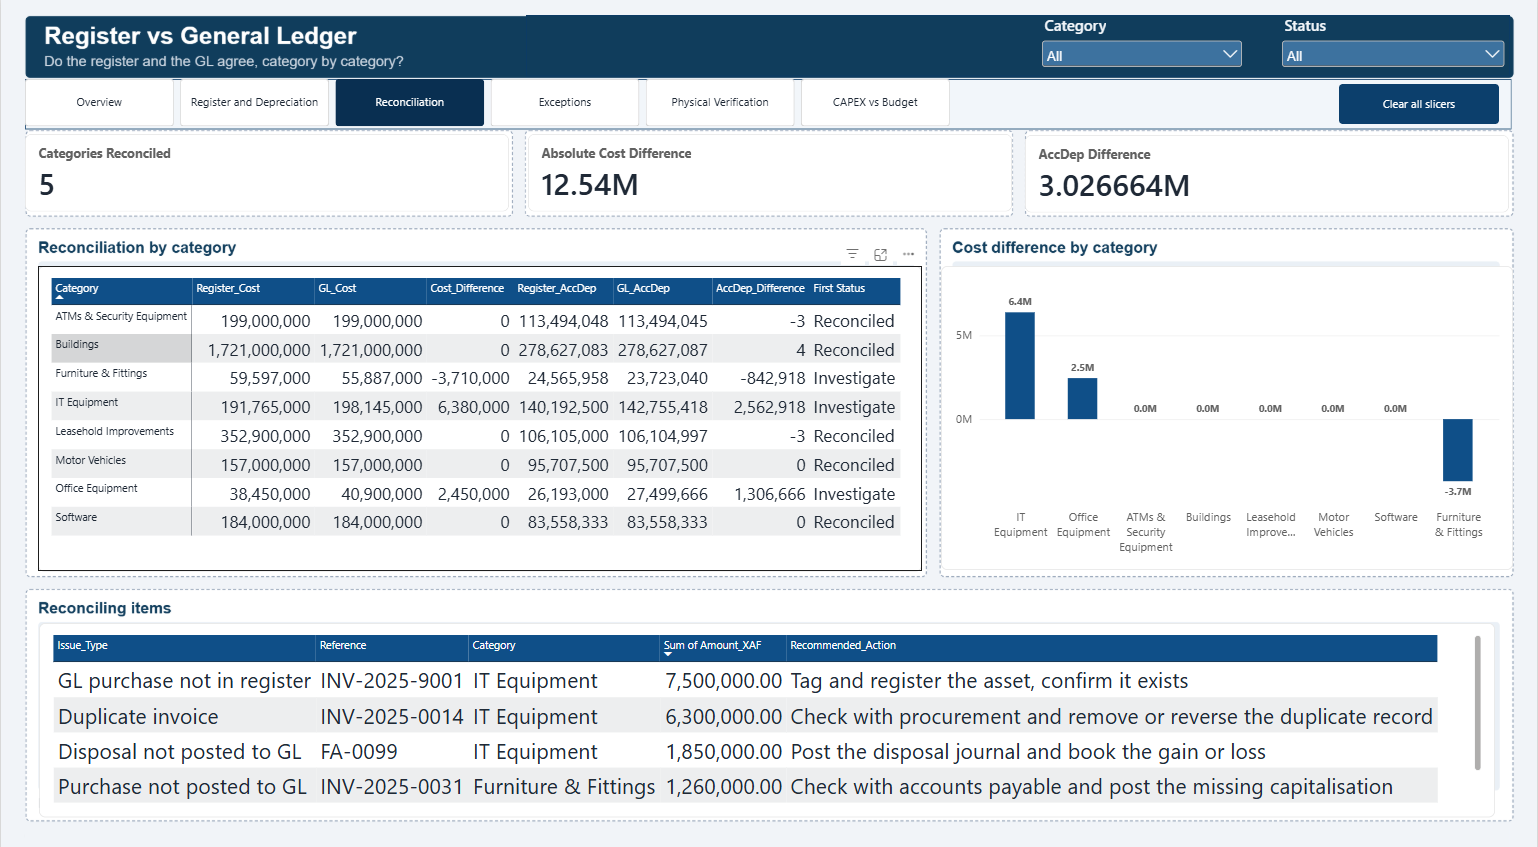

This screenshot's page, from the dashboard's own definition file:
{"tool":"powerbi","page":{"name":"Reconciliation","canvas":[1920,1080],"ordinal":2},"visuals":[{"type":"shape","box":[656.7,20,1230,76.7],"z":0},{"type":"shape","box":[30,100,1858.3,63],"z":1000},{"type":"cardVisual","fields":{"Data":["DAX Measures.Categories Reconciled"]},"box":[30.2,169.3,605.4,97.4],"z":2000},{"type":"cardVisual","fields":{"Data":["DAX Measures.Absolute Cost Difference"]},"box":[658.7,169.3,605.4,97.4],"z":3000},{"type":"cardVisual","fields":{"Data":["DAX Measures.AccDep Difference"]},"box":[1280,170,605.4,97.4],"z":4000},{"type":"pivotTable","fields":{"Rows":["tblPolicy.Category"],"Values":["Sum(qReconciliation 1.Register_Cost)","Sum(qReconciliation 1.GL_Cost)","Sum(qReconciliation 1.Cost_Difference)","Sum(qReconciliation 1.Register_AccDep)","Sum(qReconciliation 1.GL_AccDep)","Sum(qReconciliation 1.AccDep_Difference)","Min(qReconciliation 1.Status)"]},"box":[46.7,333.3,1105,381.7],"z":5000},{"type":"clusteredColumnChart","fields":{"Category":["tblPolicy.Category"],"Y":["DAX Measures.Cost Difference"]},"box":[1175,333.3,715,380],"z":6000},{"type":"tableEx","fields":{"Values":["qExceptions_All.Issue_Type","qExceptions_All.Reference","qExceptions_All.Category","Sum(qExceptions_All.Amount_XAF)","qExceptions_All.Recommended_Action"]},"box":[47.5,780,1820,242.5],"z":7000},{"type":"slicer","fields":{"Values":["tblPolicy.Category"]},"box":[1296.6,19.5,259.8,64.9],"z":8000},{"type":"slicer","fields":{"Values":["qReconciliation 1.Status"]},"box":[1595.8,19.5,287.6,64.9],"z":9000},{"type":"pageNavigator","box":[30,100,1158,59],"z":10000},{"type":"shape","box":[30,1036,1856,30],"z":11000},{"type":"actionButton","box":[1672,106,200,50],"z":12000}]}

Visuals, with their boxes in screenshot pixels (x1, y1, x2, y2), scaled from the page's 1920x1080 canvas onto the 1538x847 screenshot:
shape: locate(526, 16, 1511, 76)
shape: locate(24, 78, 1513, 128)
cardVisual - DAX Measures.Categories Reconciled: locate(24, 133, 509, 209)
cardVisual - DAX Measures.Absolute Cost Difference: locate(528, 133, 1013, 209)
cardVisual - DAX Measures.AccDep Difference: locate(1025, 133, 1510, 210)
pivotTable - tblPolicy.Category x Sum(qReconciliation 1.Register_Cost): locate(37, 261, 923, 561)
clusteredColumnChart - tblPolicy.Category x DAX Measures.Cost Difference: locate(941, 261, 1514, 559)
tableEx - qExceptions_All.Issue_Type x qExceptions_All.Reference: locate(38, 612, 1496, 802)
slicer - tblPolicy.Category: locate(1039, 15, 1247, 66)
slicer - qReconciliation 1.Status: locate(1278, 15, 1509, 66)
pageNavigator: locate(24, 78, 952, 125)
shape: locate(24, 812, 1511, 836)
actionButton: locate(1339, 83, 1500, 122)
